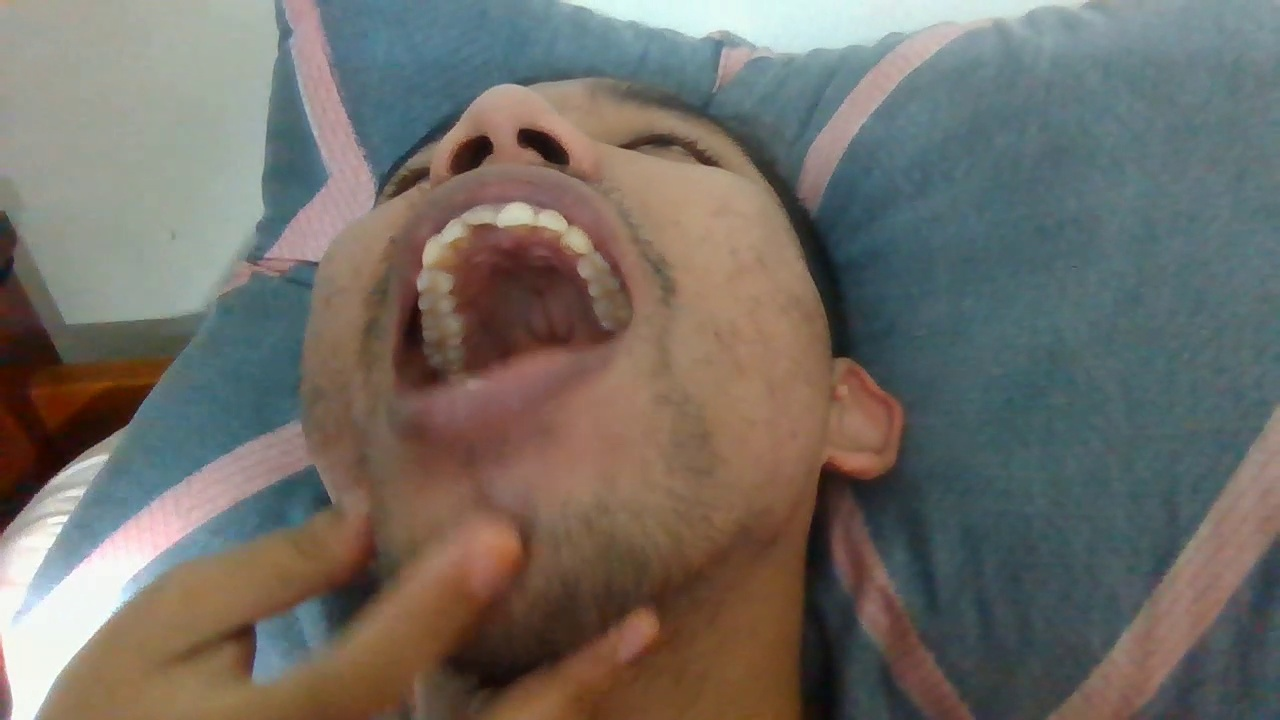1st Molar: (420, 312, 466, 342), (593, 296, 632, 329)
1st Premolar: (575, 253, 612, 277), (416, 269, 456, 291)
2nd Molar: (425, 343, 467, 365)
2nd Premolar: (416, 292, 458, 310), (586, 277, 622, 296)
Canine: (422, 234, 459, 267), (561, 227, 594, 254)
Central Incisor: (461, 202, 500, 227), (499, 200, 535, 226)
Lateral Incisor: (535, 207, 568, 234), (439, 218, 473, 243)
